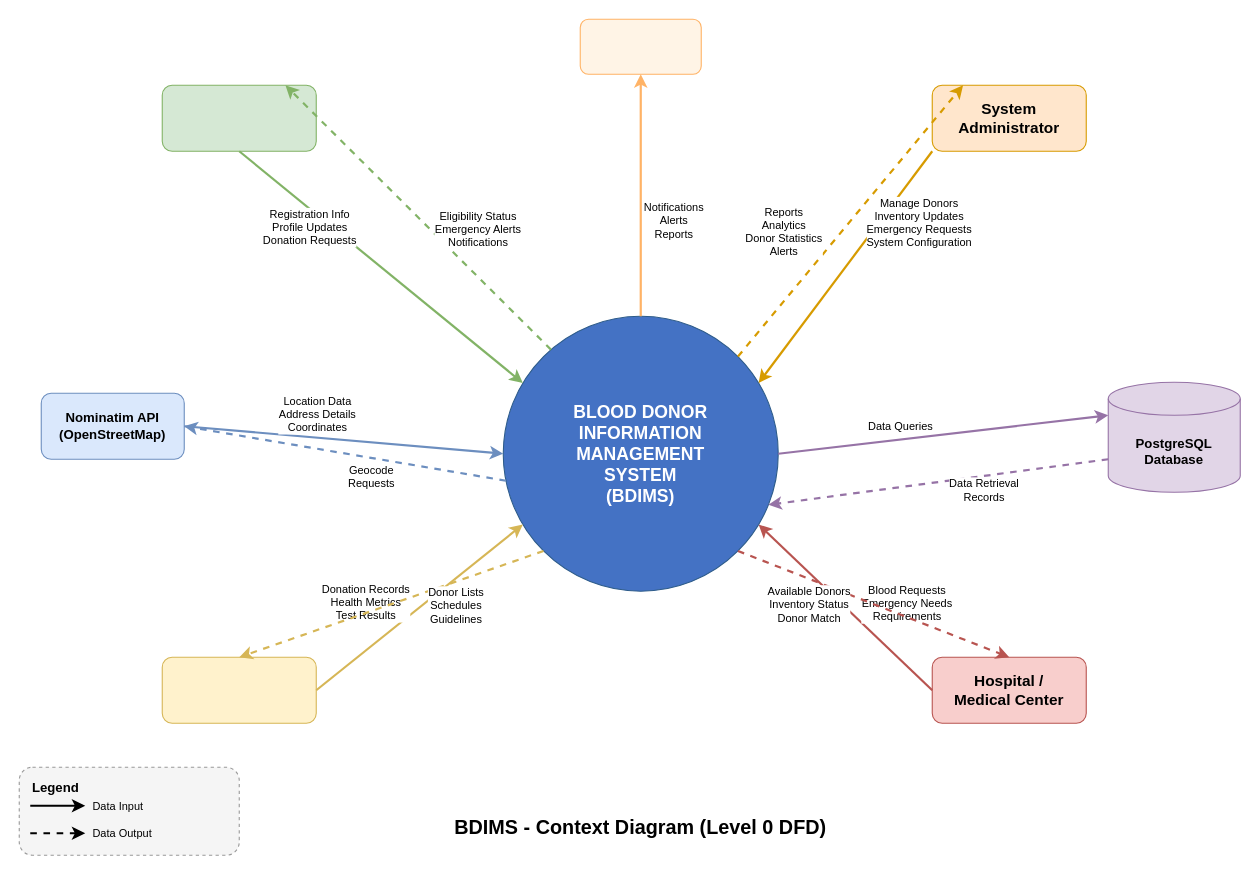
The diagram is 1260 pixels wide and 875 high, and some of its shapes have lost their labels. Each missing label, with the box of its shape:
Blood Bank Staff: (161, 656, 316, 723)
Blood Donor: (161, 84, 316, 151)
Email Service: (579, 18, 701, 74)
